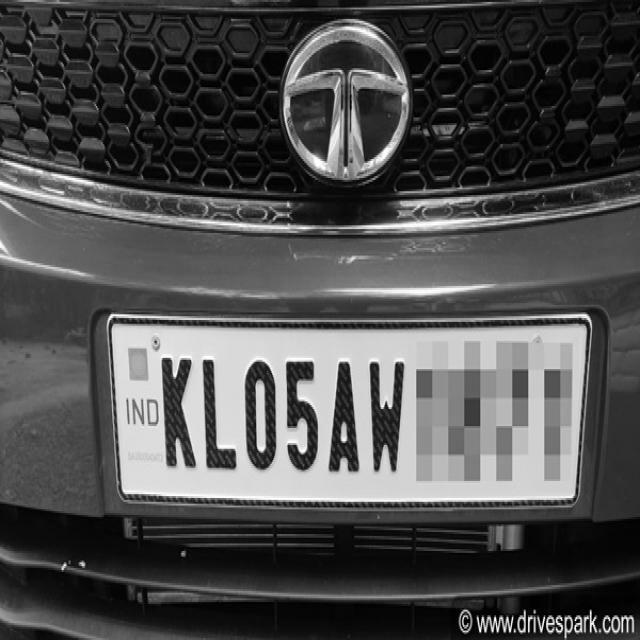License_Plate: (107, 316, 596, 504)
